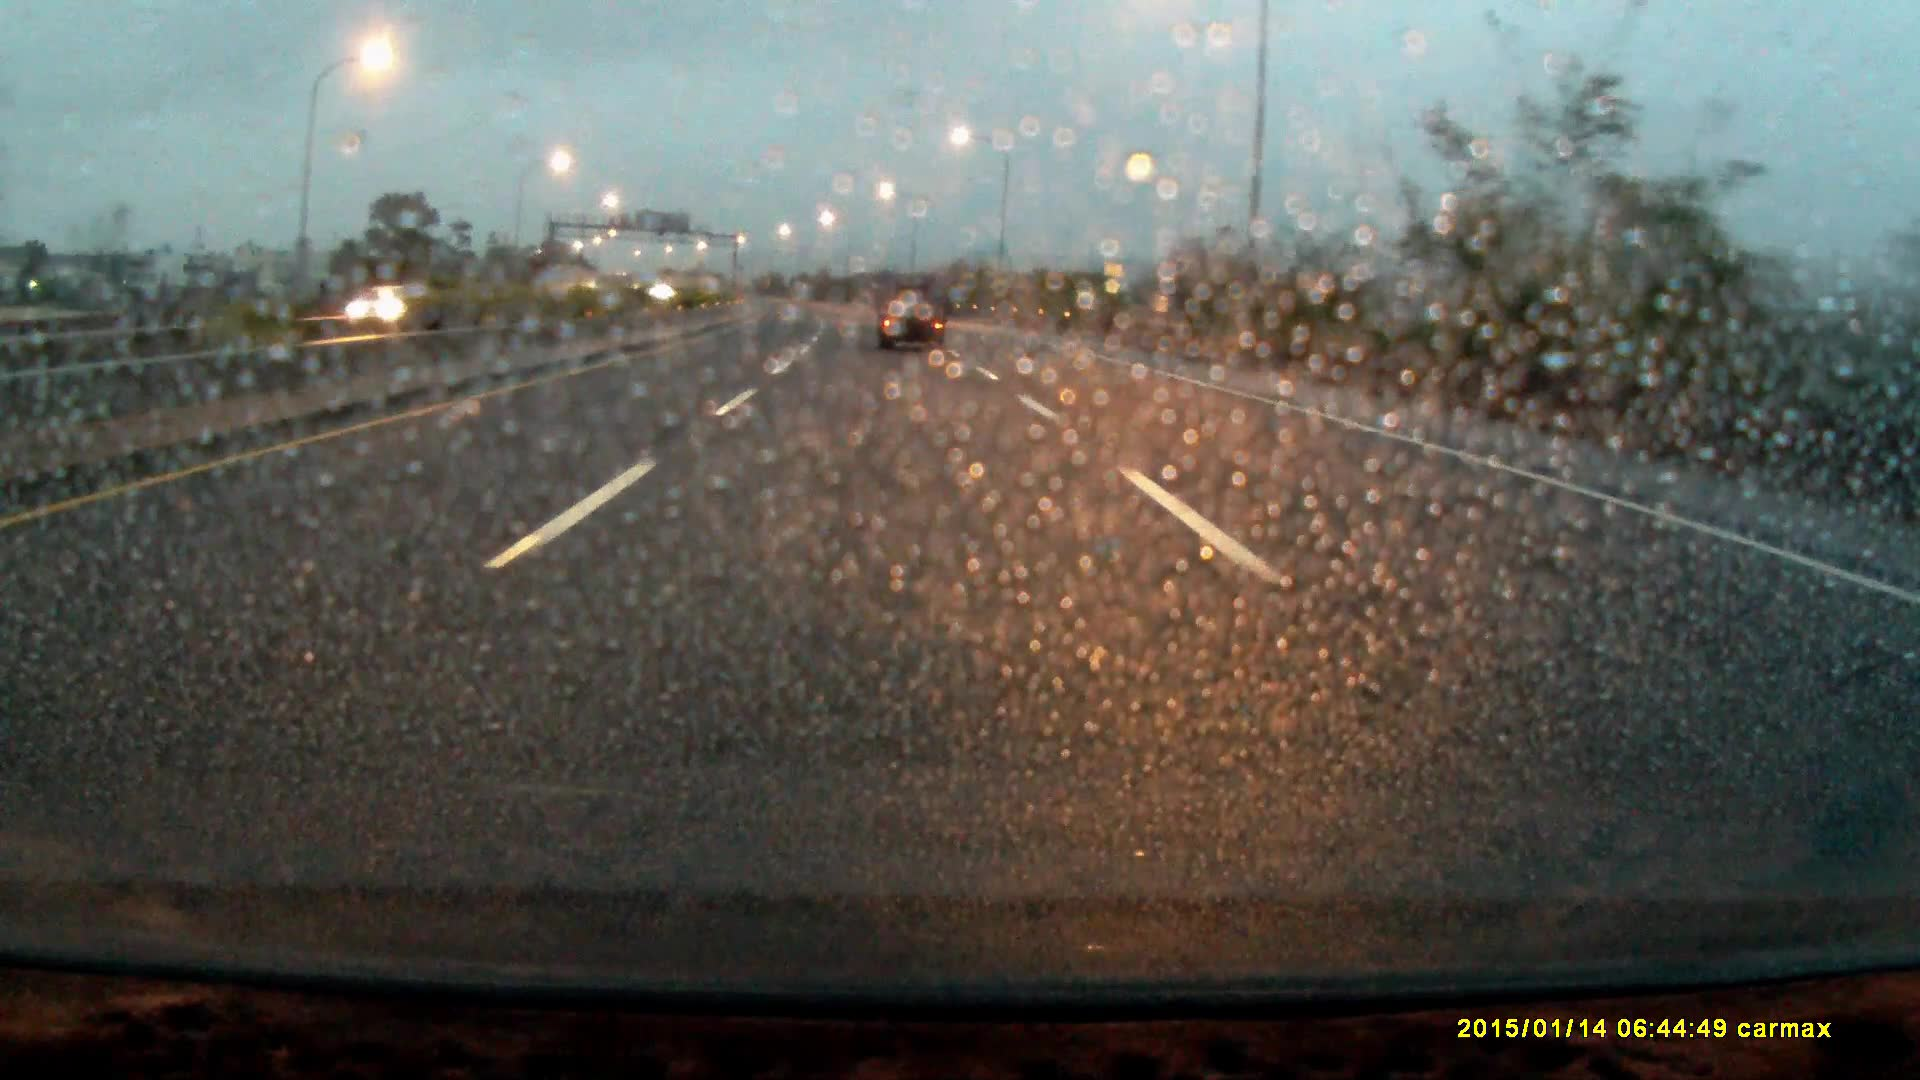vehicle: (876, 268, 945, 353), (344, 284, 419, 320)
